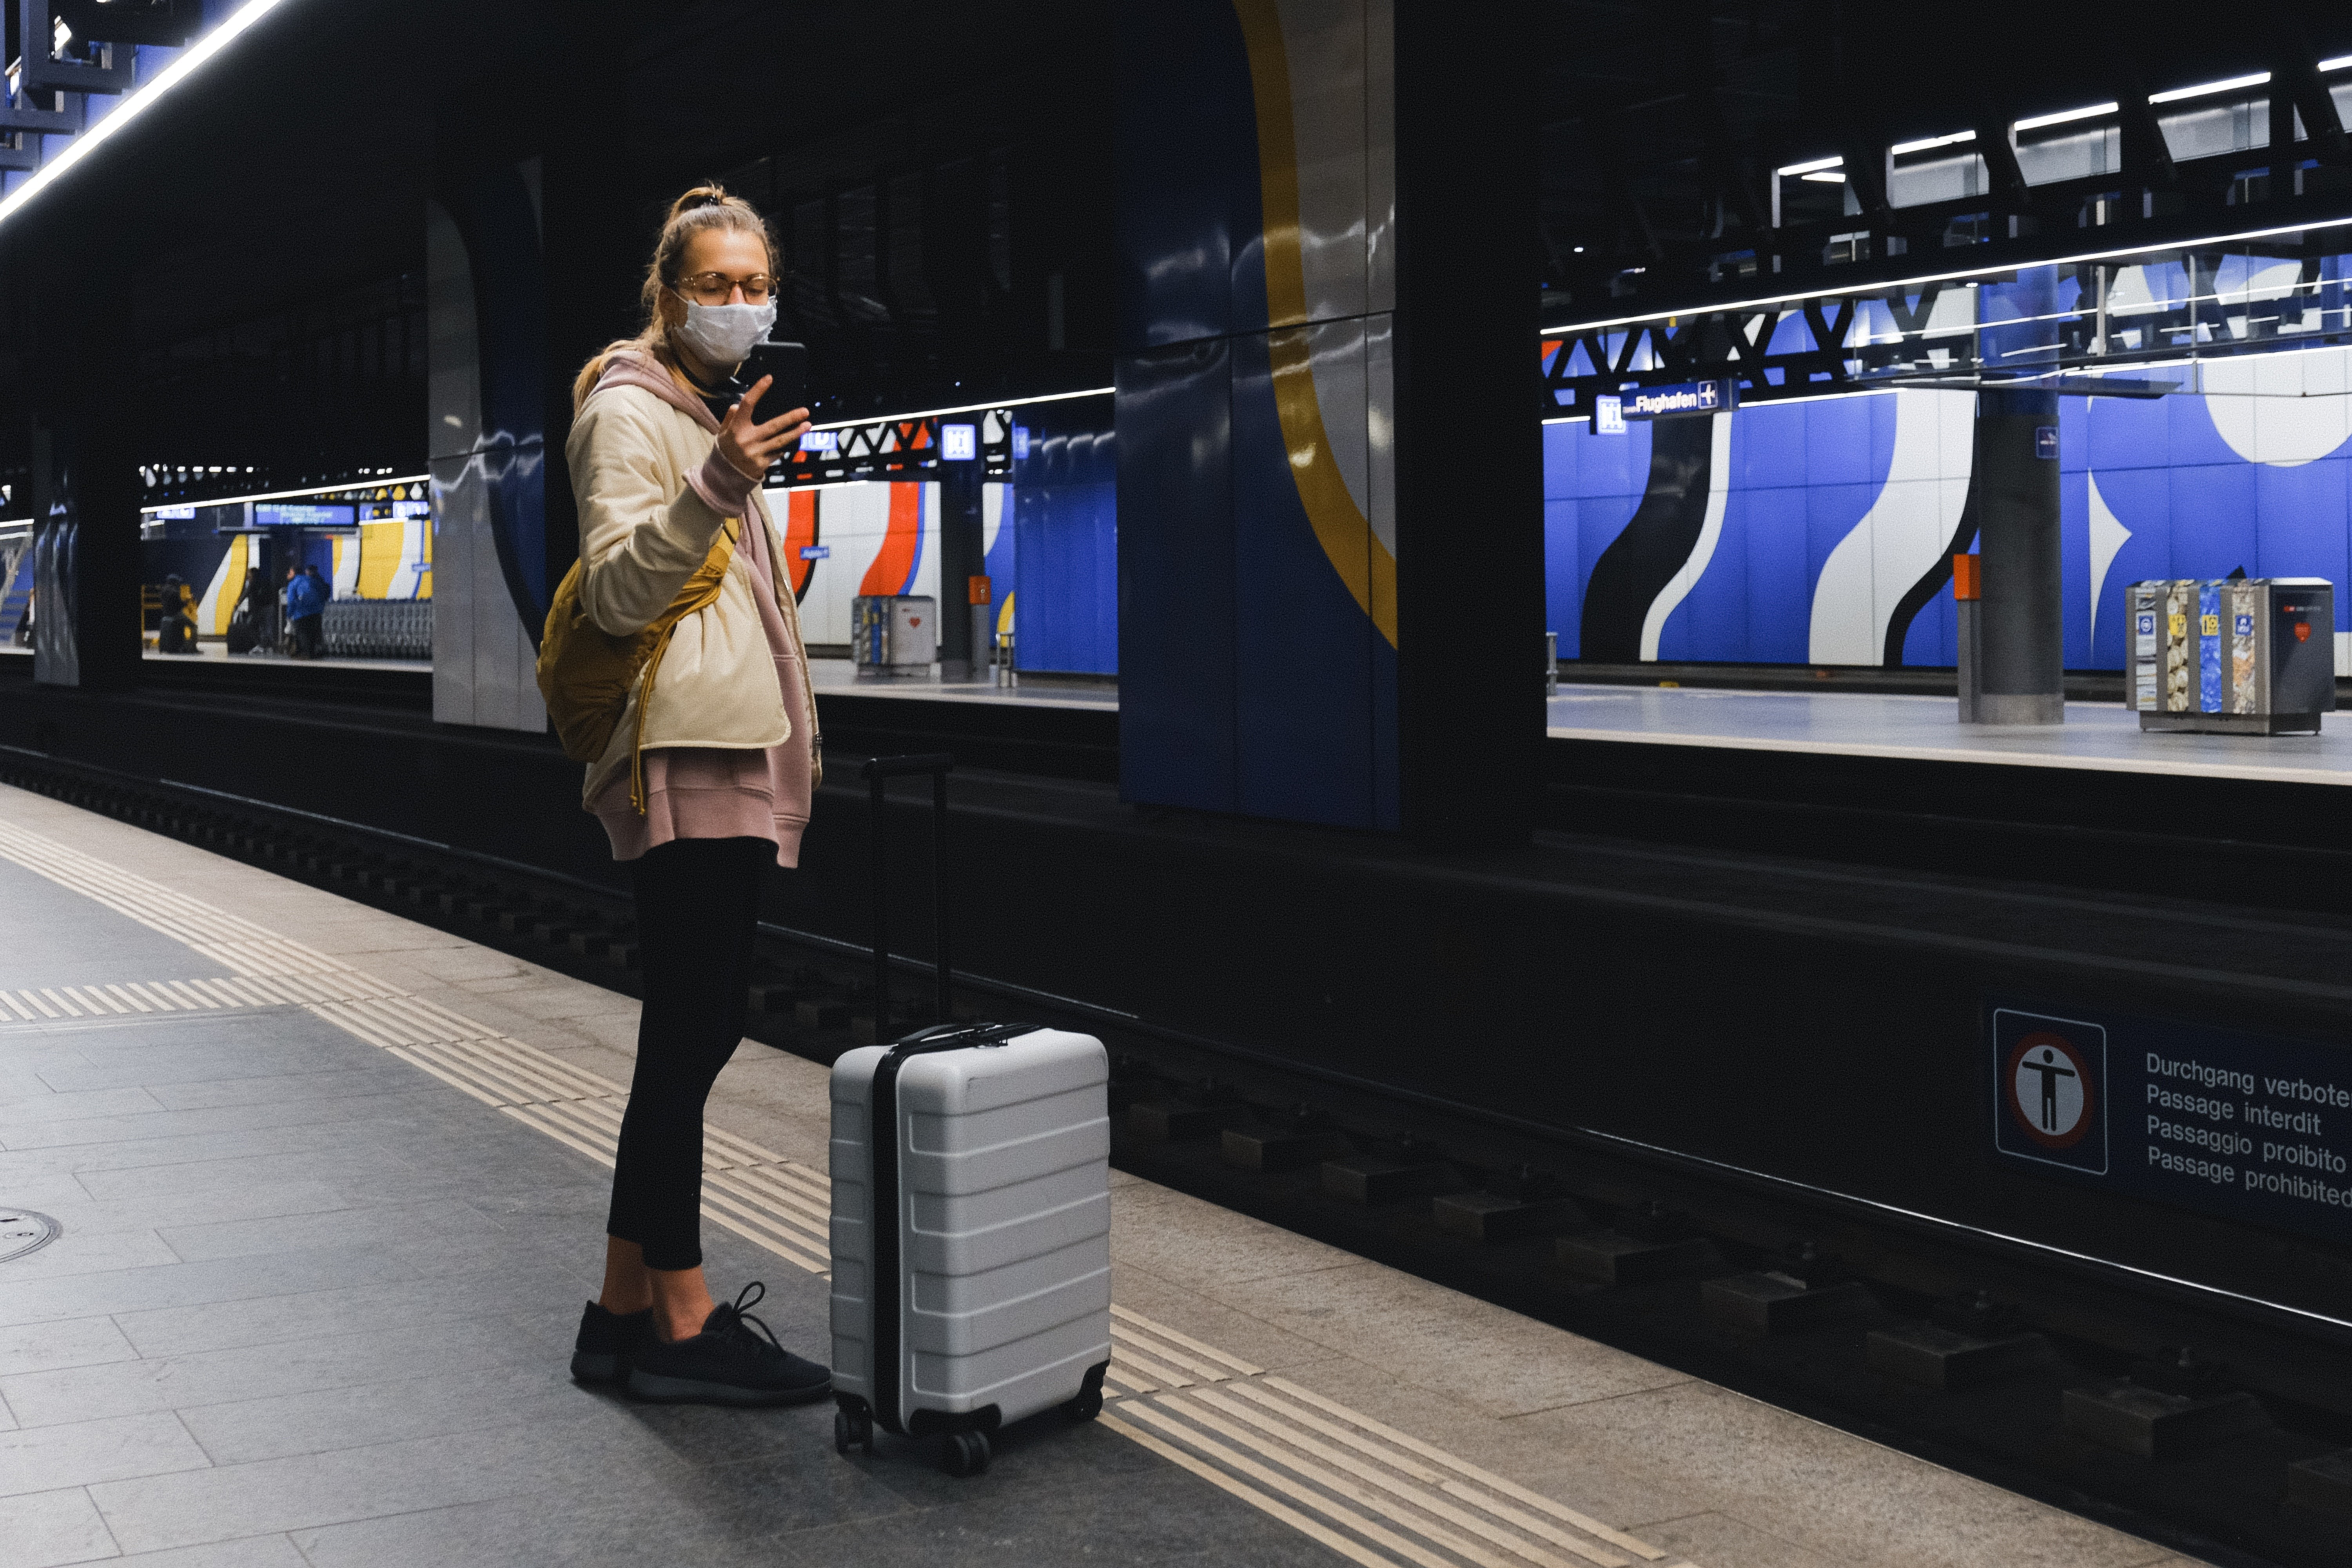face_with_mask: (657, 183, 794, 376)
